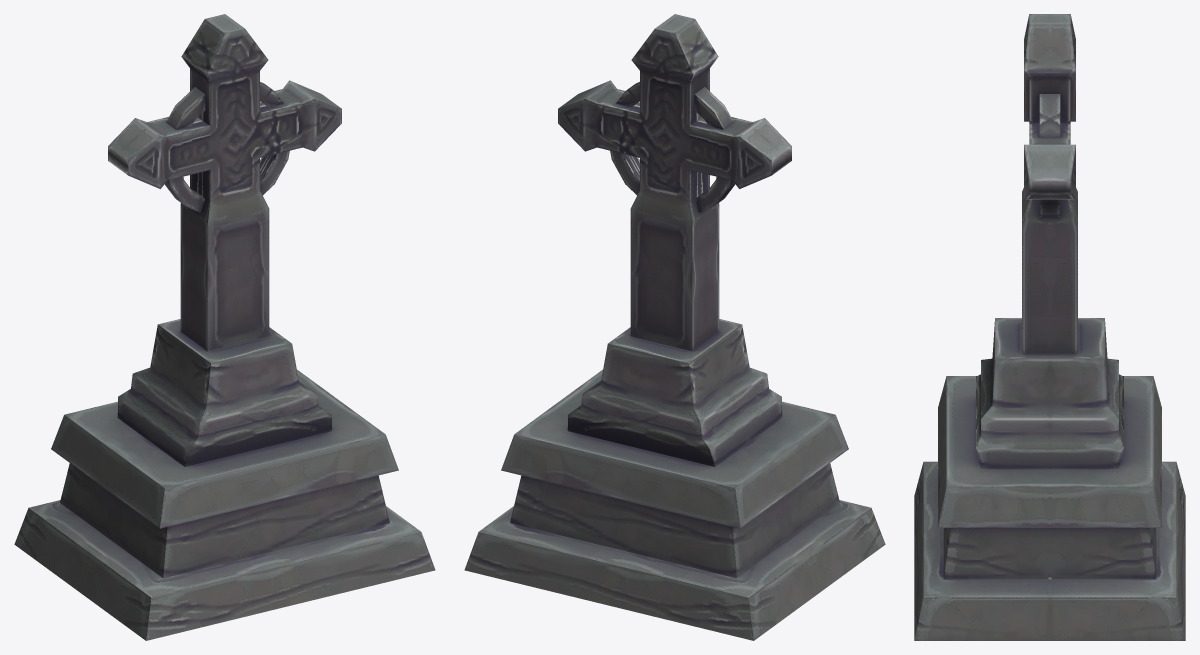
The model's file is cem_prop_grave_02.fbx.
The picture shows the model from 3 angles, left to right: view 1: azimuth 30°, elevation 25°; view 2: azimuth 150°, elevation 25°; view 3: azimuth 270°, elevation 25°; orthographic projection. The views are drawn at different scales.
Parts seen in each view (by area): view 1: cem_prop_grave_02; view 2: cem_prop_grave_02; view 3: cem_prop_grave_02.
Part boxes in pixels (x1,y1,x2,y2): cem_prop_grave_02: (14, 14, 435, 640); cem_prop_grave_02: (464, 14, 885, 640); cem_prop_grave_02: (914, 14, 1185, 640).
Bounding box in the file's own units: 80.4 × 142 × 63.37.
